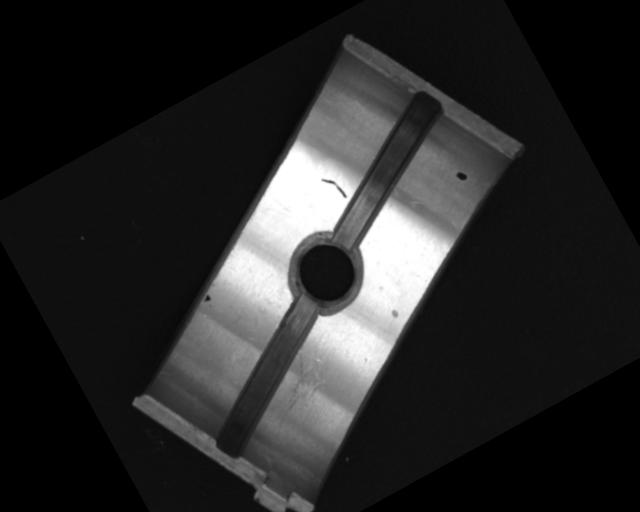blot: (453, 167, 470, 184), (201, 292, 213, 304)
bruise: (387, 305, 400, 320)
gap: (175, 290, 361, 461), (297, 92, 475, 253)
hole: (275, 222, 373, 321)
nick: (321, 171, 349, 205)
scratch: (249, 343, 340, 431)
